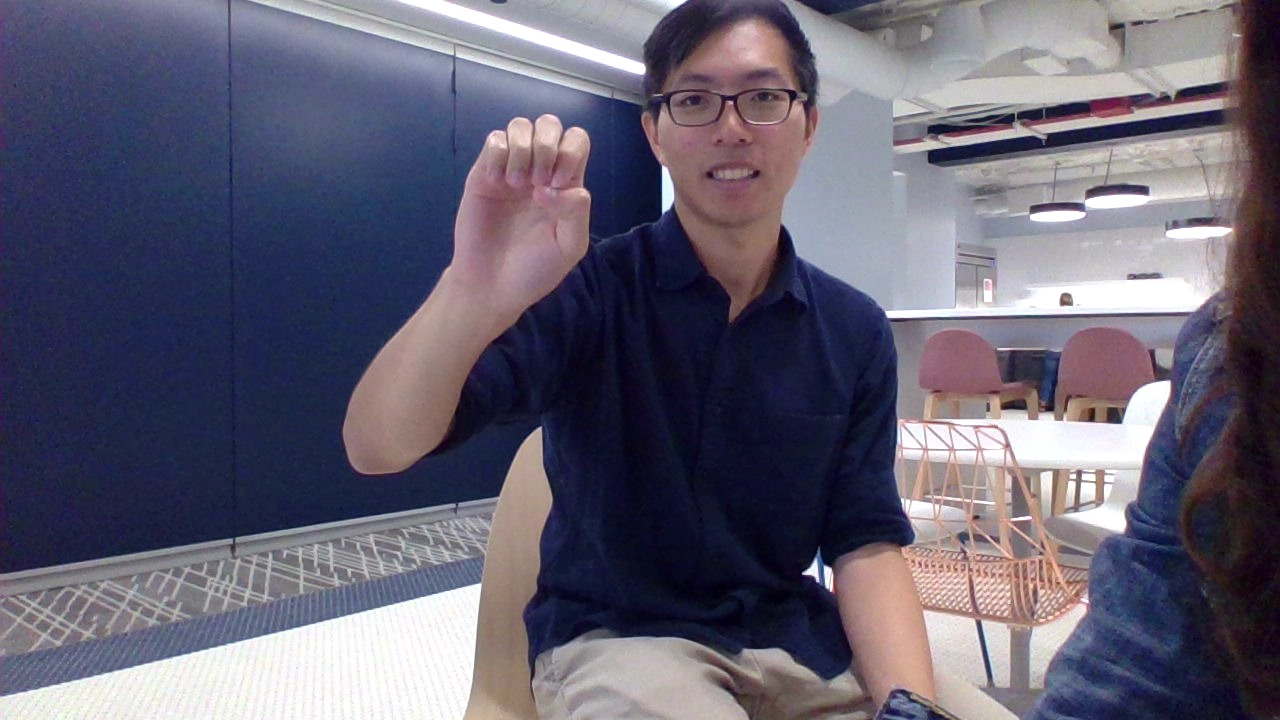e: (430, 98, 625, 344)
